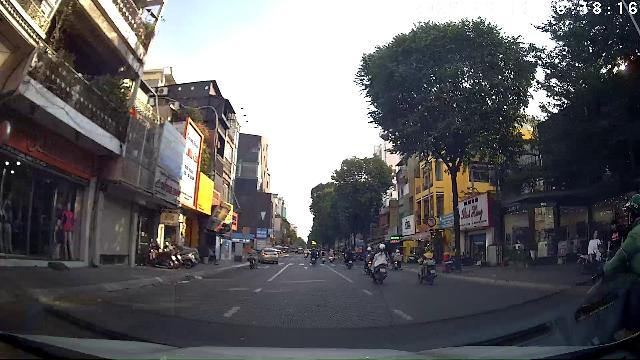123a-cam-re-trai: (428, 217, 437, 227)
